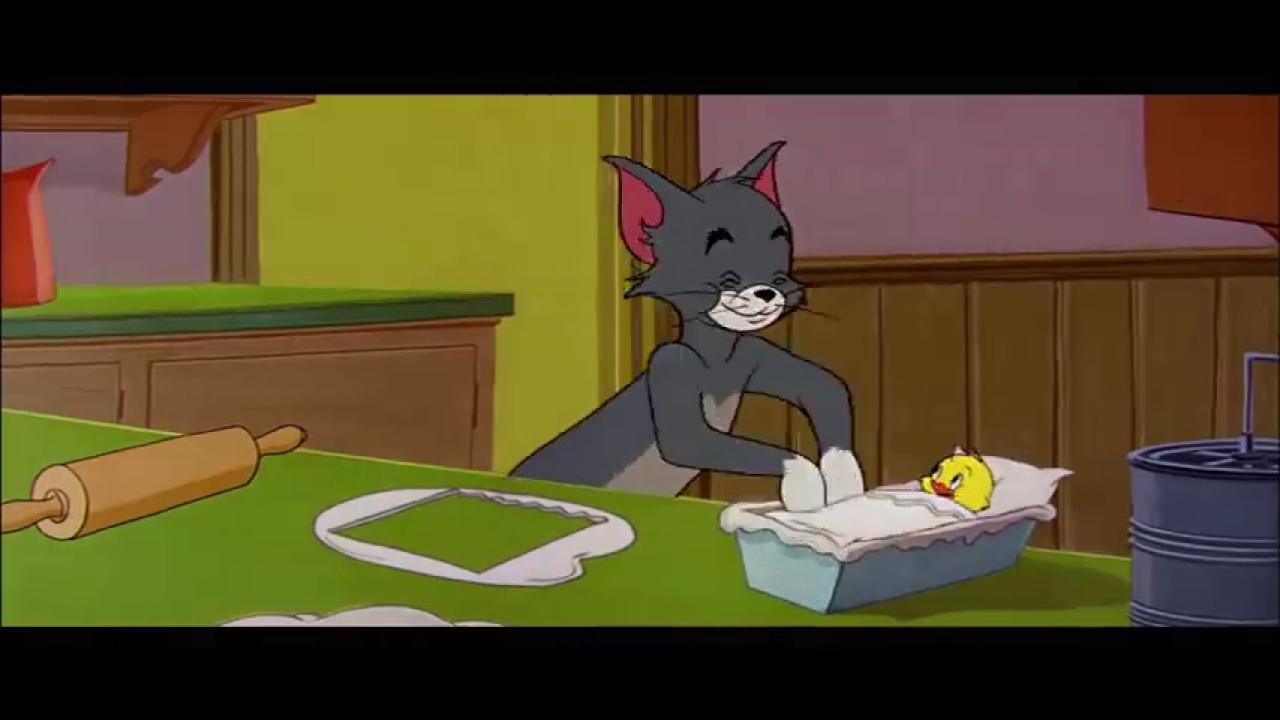Tom: (508, 137, 867, 514)
